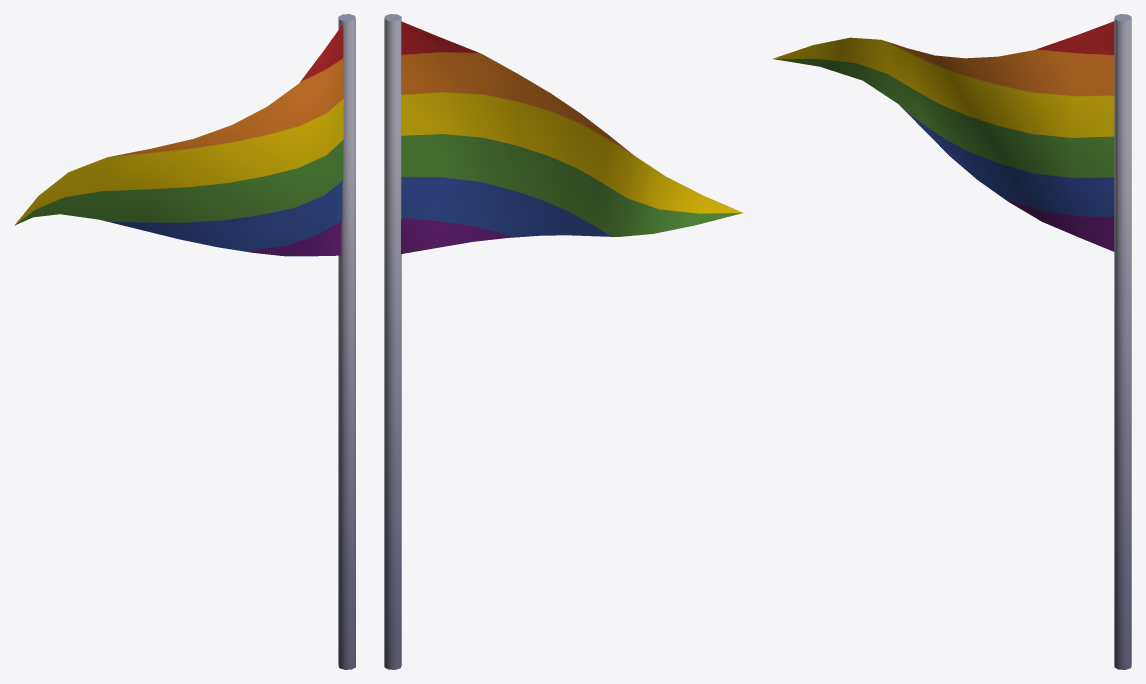
File: m_Pride_HandheldFlag02_Wavy.fbx
The picture shows the model from 3 angles, left to right: view 1: azimuth 30°, elevation 25°; view 2: azimuth 150°, elevation 25°; view 3: azimuth 330°, elevation 25°; orthographic projection.
Parts seen in each view (by area): view 1: m_Pride_HandheldFlag02_Wavy; view 2: m_Pride_HandheldFlag02_Wavy; view 3: m_Pride_HandheldFlag02_Wavy.
Part boxes in pixels (bbox=[...]): m_Pride_HandheldFlag02_Wavy: bbox=[14, 14, 355, 669]; m_Pride_HandheldFlag02_Wavy: bbox=[384, 14, 743, 669]; m_Pride_HandheldFlag02_Wavy: bbox=[773, 14, 1131, 669].
Size of the model in its own units: 21.45 by 38 by 3.84.
